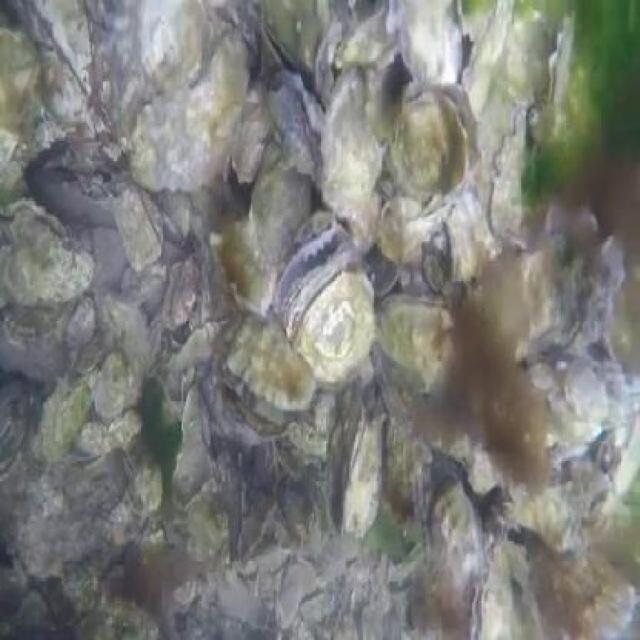Oyster- Indeterminate: (118, 36, 240, 203), (222, 312, 341, 425), (14, 0, 121, 119), (317, 84, 395, 232), (374, 394, 456, 534), (377, 0, 488, 102), (292, 258, 381, 376), (4, 217, 106, 312), (388, 95, 473, 202), (122, 0, 223, 90), (99, 287, 174, 392), (382, 295, 473, 381), (253, 68, 338, 158), (114, 186, 186, 282), (246, 166, 302, 256), (514, 480, 584, 551), (0, 26, 49, 126), (62, 597, 175, 640), (345, 4, 408, 81), (70, 407, 154, 463), (45, 555, 113, 620), (114, 446, 167, 528), (81, 348, 140, 418), (348, 420, 380, 546), (433, 477, 472, 578), (178, 495, 237, 561), (560, 358, 610, 432), (0, 374, 32, 474), (171, 323, 216, 377), (161, 266, 198, 329), (44, 387, 76, 450), (1, 323, 46, 366)
Oyster-Open: (239, 7, 307, 98), (464, 537, 523, 640)
